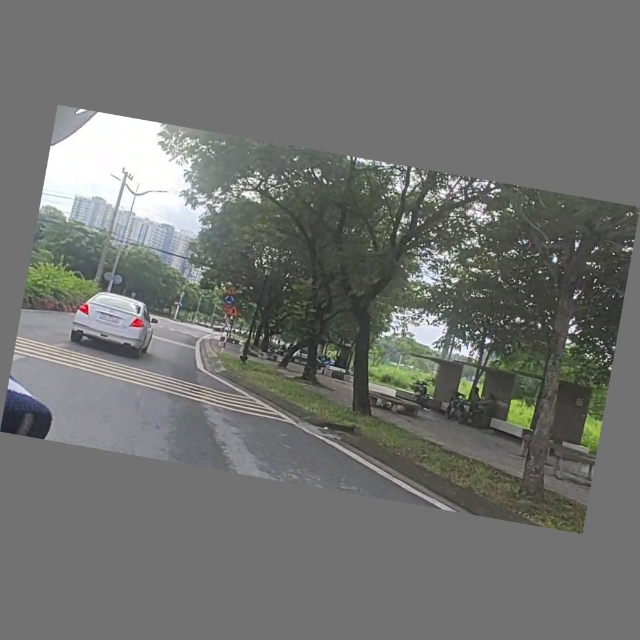R.302a: (178, 302, 185, 309)
R.303: (223, 295, 235, 306)
W.207: (226, 305, 242, 319)
W.224: (225, 285, 237, 296)
